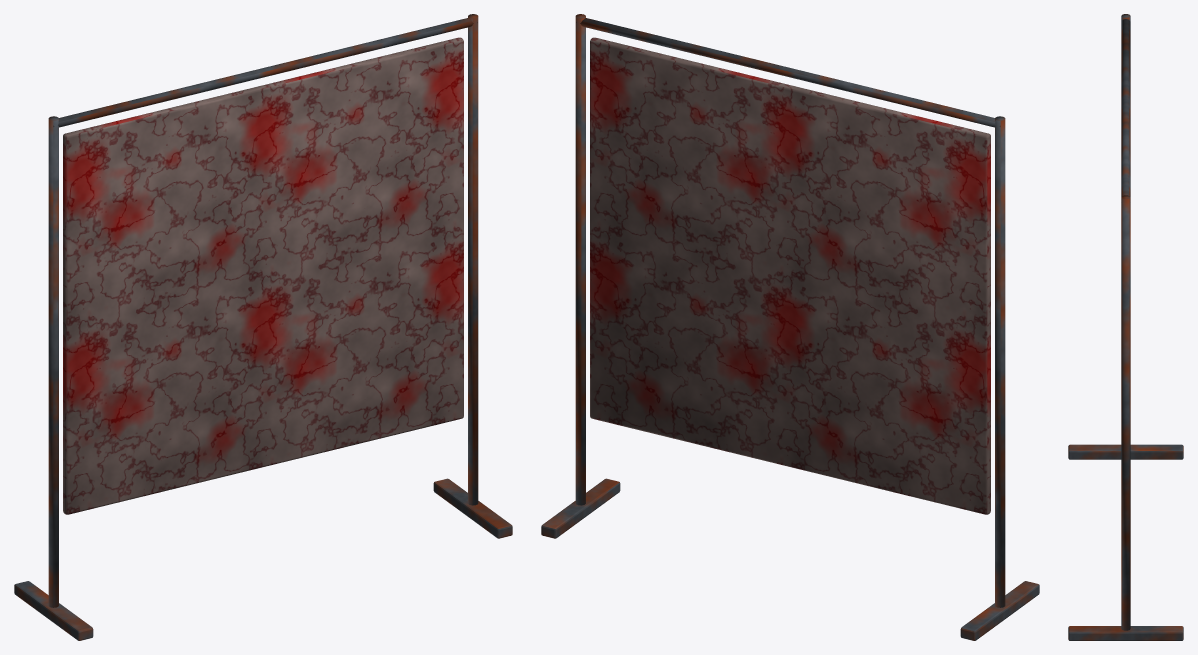
File: prop_medical_curtain.glb
The picture shows the model from 3 angles, left to right: view 1: azimuth 30°, elevation 25°; view 2: azimuth 150°, elevation 25°; view 3: azimuth 270°, elevation 25°; orthographic projection. The views are drawn at different scales.
Visible parts, largest first — view 1: FabricSheet, Upright_-0.82, Upright_0.82, TopBar, Foot_-0.82, Foot_0.82; view 2: FabricSheet, Upright_-0.82, Upright_0.82, TopBar, Foot_-0.82, Foot_0.82; view 3: Upright_0.82, TopBar, Foot_-0.82, Foot_0.82, Upright_-0.82.
Boxes of the visible parts, bbox=[...] form: FabricSheet: bbox=[63, 37, 463, 514]; Upright_-0.82: bbox=[48, 116, 58, 607]; Upright_0.82: bbox=[468, 14, 478, 505]; TopBar: bbox=[53, 18, 477, 127]; Foot_-0.82: bbox=[14, 581, 93, 640]; Foot_0.82: bbox=[433, 478, 512, 538]; FabricSheet: bbox=[590, 37, 990, 514]; Upright_-0.82: bbox=[995, 116, 1005, 607]; Upright_0.82: bbox=[575, 14, 585, 505]; TopBar: bbox=[576, 18, 1000, 127]; Foot_-0.82: bbox=[960, 581, 1039, 640]; Foot_0.82: bbox=[541, 478, 620, 538]; Upright_0.82: bbox=[1121, 195, 1130, 630]; TopBar: bbox=[1121, 19, 1130, 202]; Foot_-0.82: bbox=[1068, 444, 1183, 459]; Foot_0.82: bbox=[1068, 626, 1183, 640]; Upright_-0.82: bbox=[1121, 14, 1130, 196].
Bounding box in the file's own units: 1.7 × 1.86 × 0.44.
2 materials, 2 textured.
